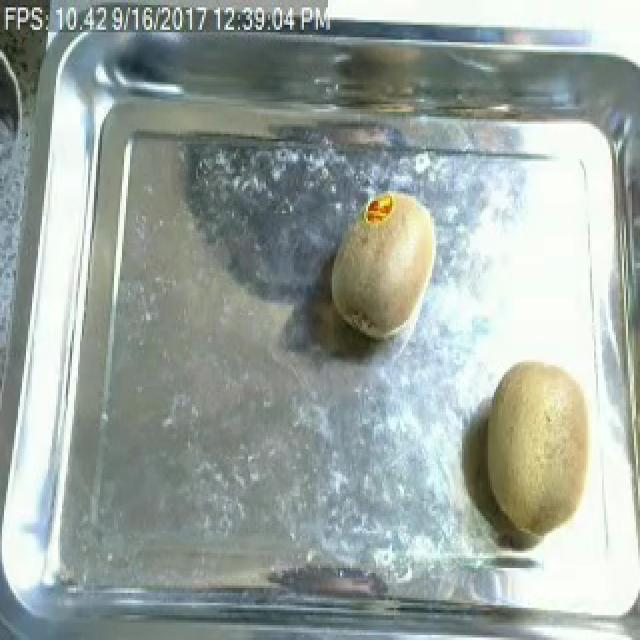Fruit: (472, 347, 610, 546), (322, 184, 442, 347)
